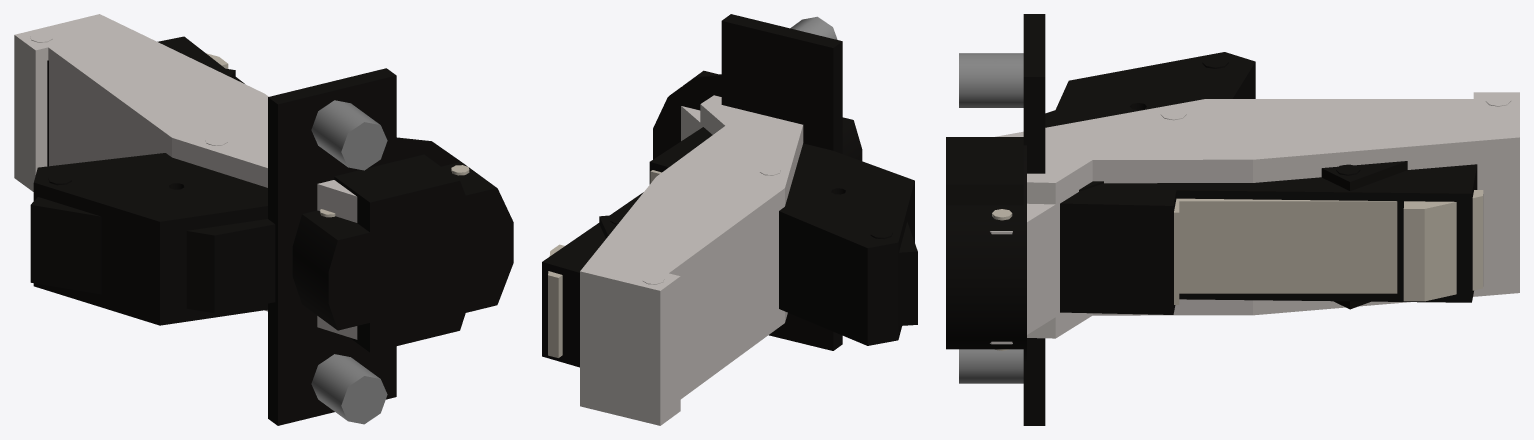
3 views of the same model, side by side, from view 1: azimuth 30°, elevation 25°; view 2: azimuth 150°, elevation 25°; view 3: azimuth 270°, elevation 25° (orthographic). The views are drawn at different scales.
Visible parts, largest first — view 1: bau0079302490-1, bau0079291413-1, bau0079298416-1, bau0079324562-1, bau0079262819-1; view 2: bau0079291413-1, bau0079298416-1, bau0079302490-1, bau0079262819-1, bau0079324562-1, bau0025540121-1, bau0015175113-1; view 3: bau0079291413-1, bau0079302490-1, bau0025540121-1, bau0079262819-1, bau0079298416-1, bau0015175113-1.
Part boxes in pixels (<box>): bau0079302490-1: <box>268,68,513,425</box>; bau0079291413-1: <box>14,14,357,339</box>; bau0079298416-1: <box>33,153,267,325</box>; bau0079324562-1: <box>30,197,275,313</box>; bau0079262819-1: <box>157,36,244,83</box>; bau0079291413-1: <box>580,95,803,425</box>; bau0079298416-1: <box>779,143,914,345</box>; bau0079302490-1: <box>653,14,862,350</box>; bau0079262819-1: <box>542,127,712,367</box>; bau0079324562-1: <box>899,222,917,325</box>; bau0025540121-1: <box>548,170,661,357</box>; bau0015175113-1: <box>599,214,625,238</box>; bau0079291413-1: <box>990,92,1519,344</box>; bau0079302490-1: <box>946,14,1045,425</box>; bau0025540121-1: <box>1174,190,1483,304</box>; bau0079262819-1: <box>1060,164,1477,314</box>; bau0079298416-1: <box>1048,52,1255,191</box>; bau0015175113-1: <box>1321,161,1407,309</box>.
Bounding box in the file's own units: 67.42 × 57 × 84.92.
